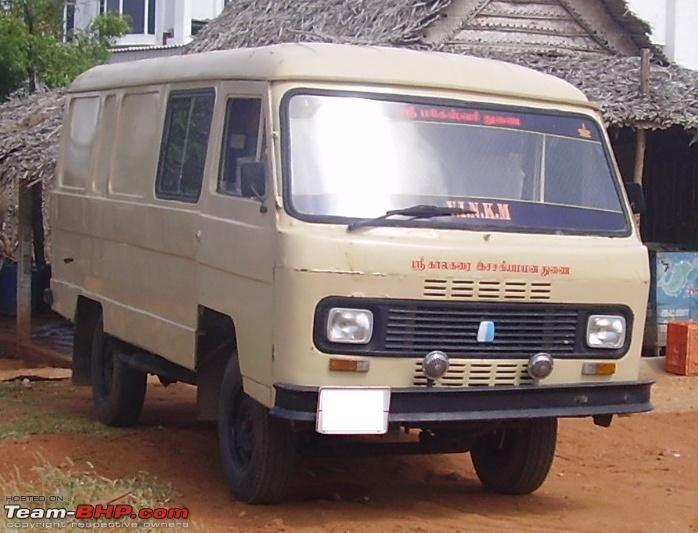van: (47, 42, 655, 505)
